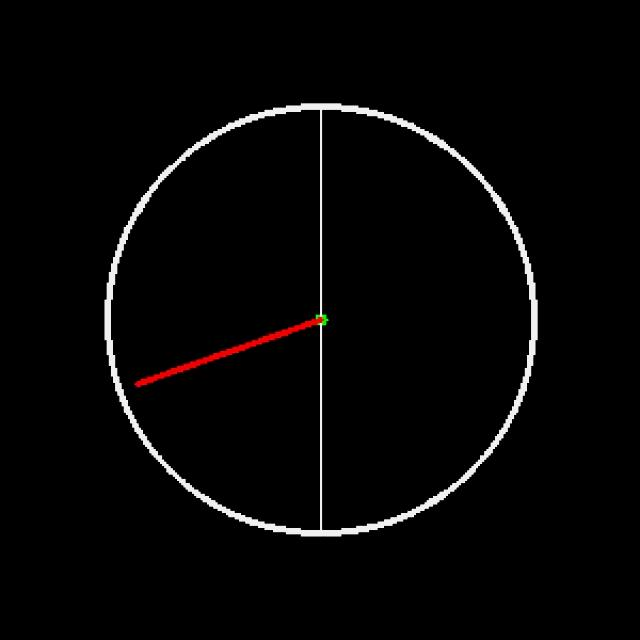Needle_Tip: (122, 361, 169, 402)
Needle_base: (299, 284, 361, 357)
